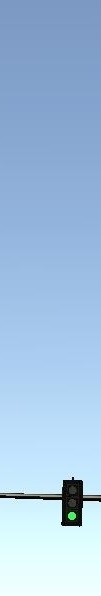Green: (60, 479, 83, 527)
